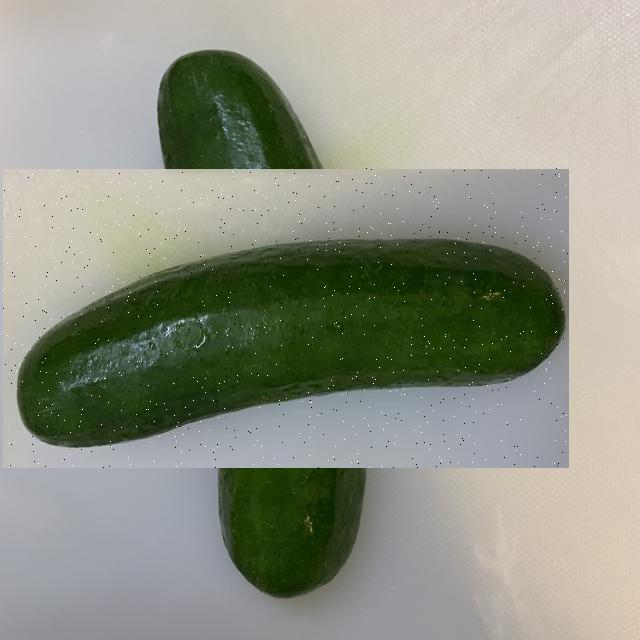Cucumber: (13, 235, 568, 453)
